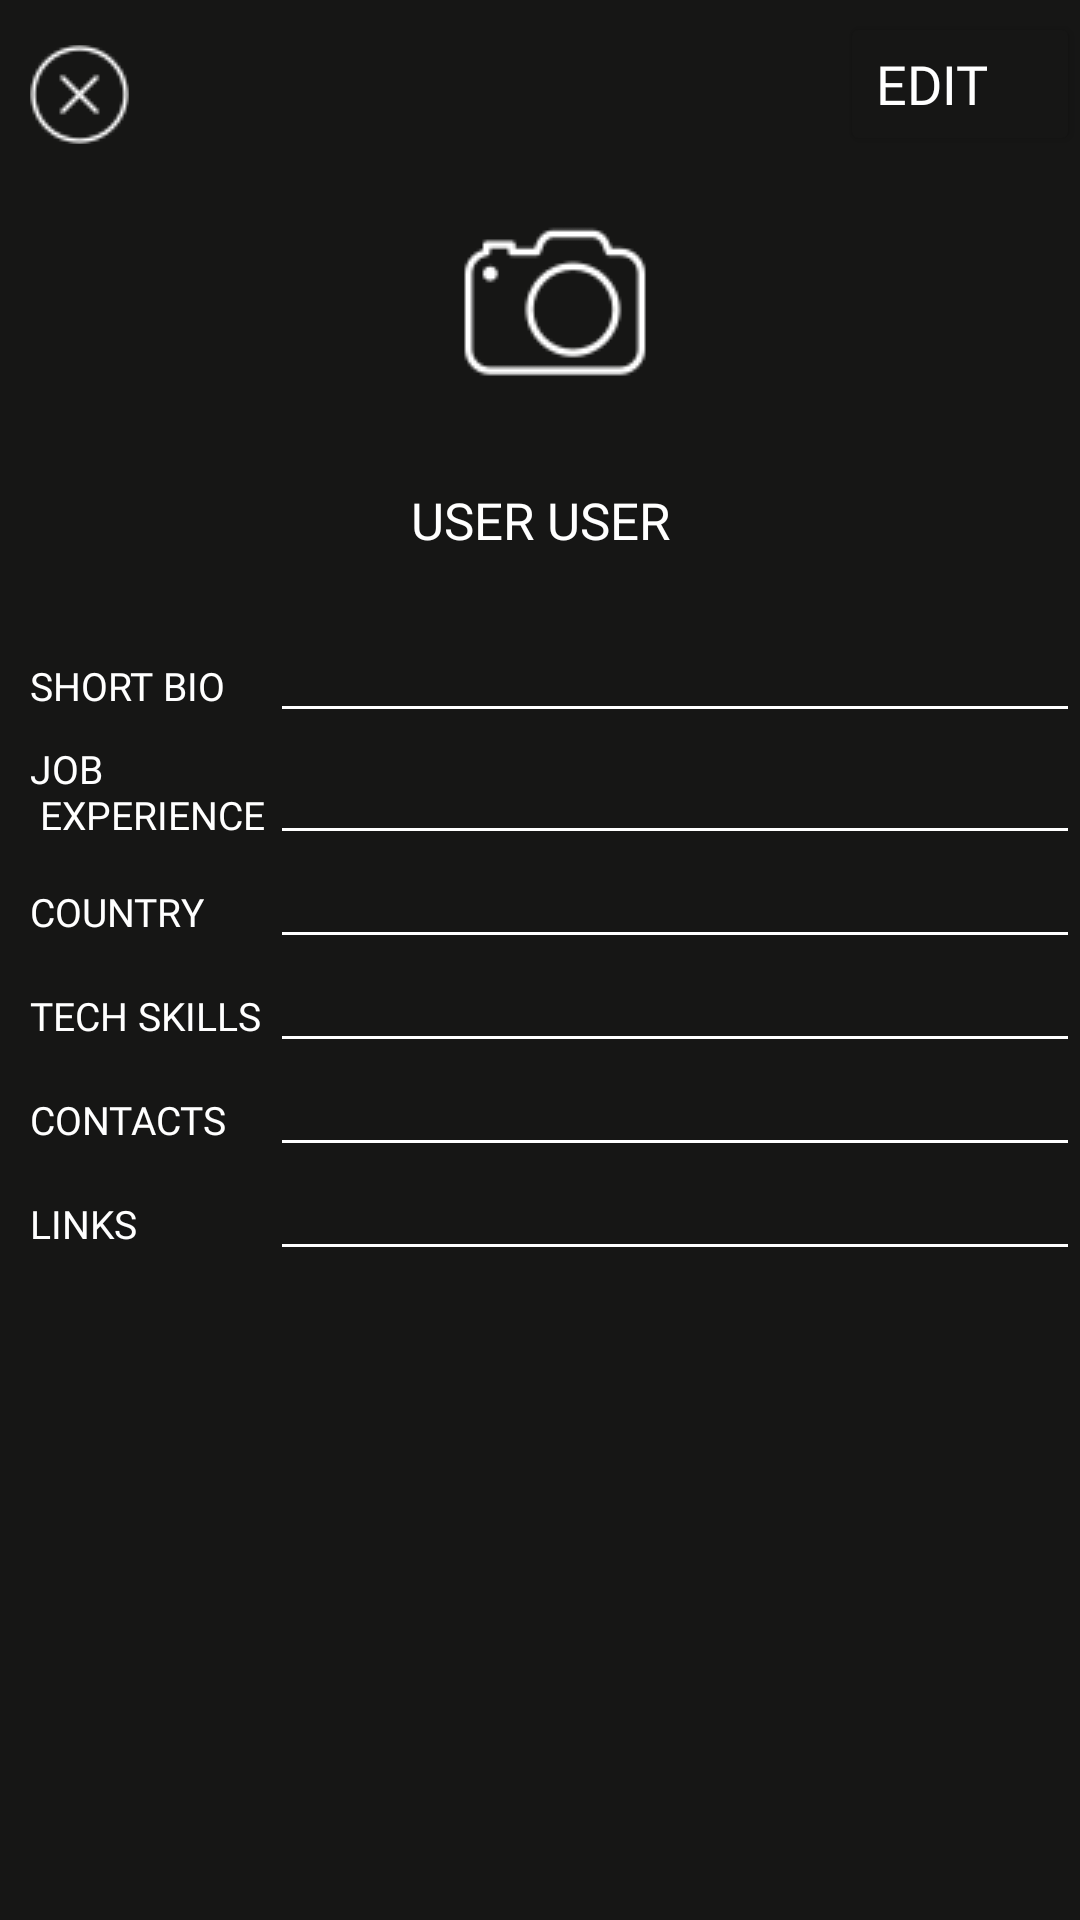

Icons on this 1080x1920 Android screen, each with the point to tap as point (x, y):
close: point (79, 94)
